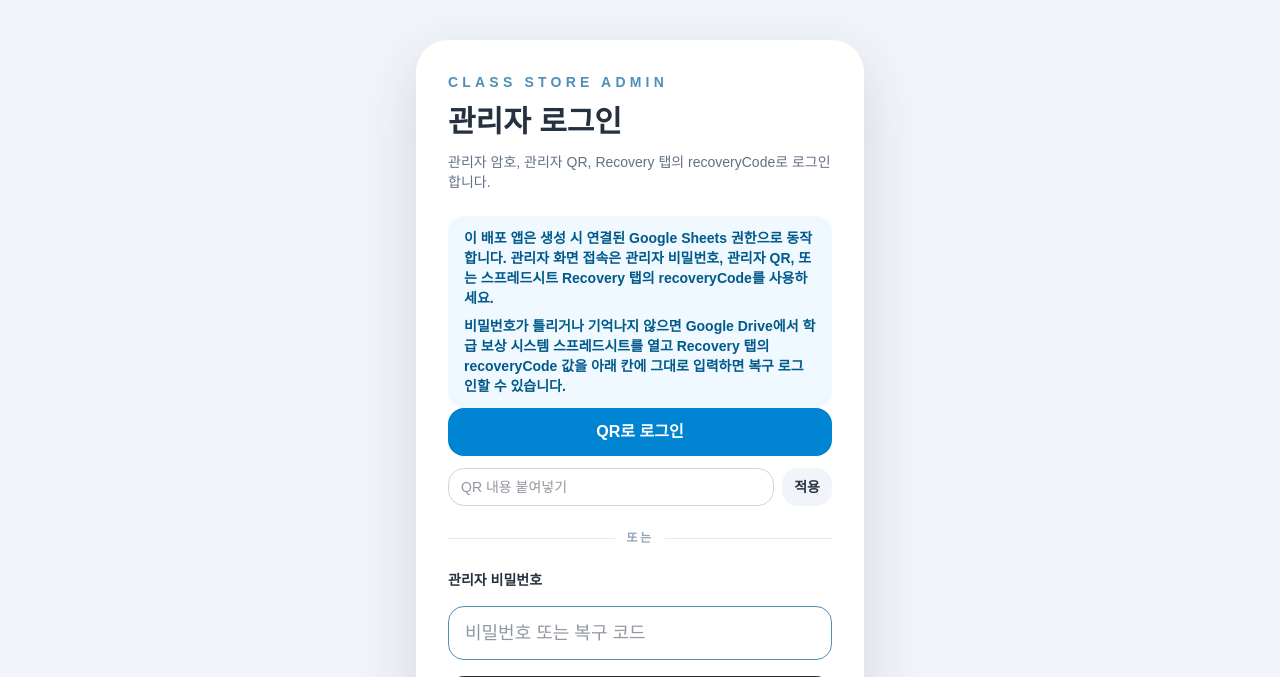
Scenario: AdminLoginPage › shows a loading dialog after applying a pasted admin QR login value
Type "class-store-admin:secret" into the field named "QR 로그인 값" at (611, 487), box [448, 468, 774, 506]
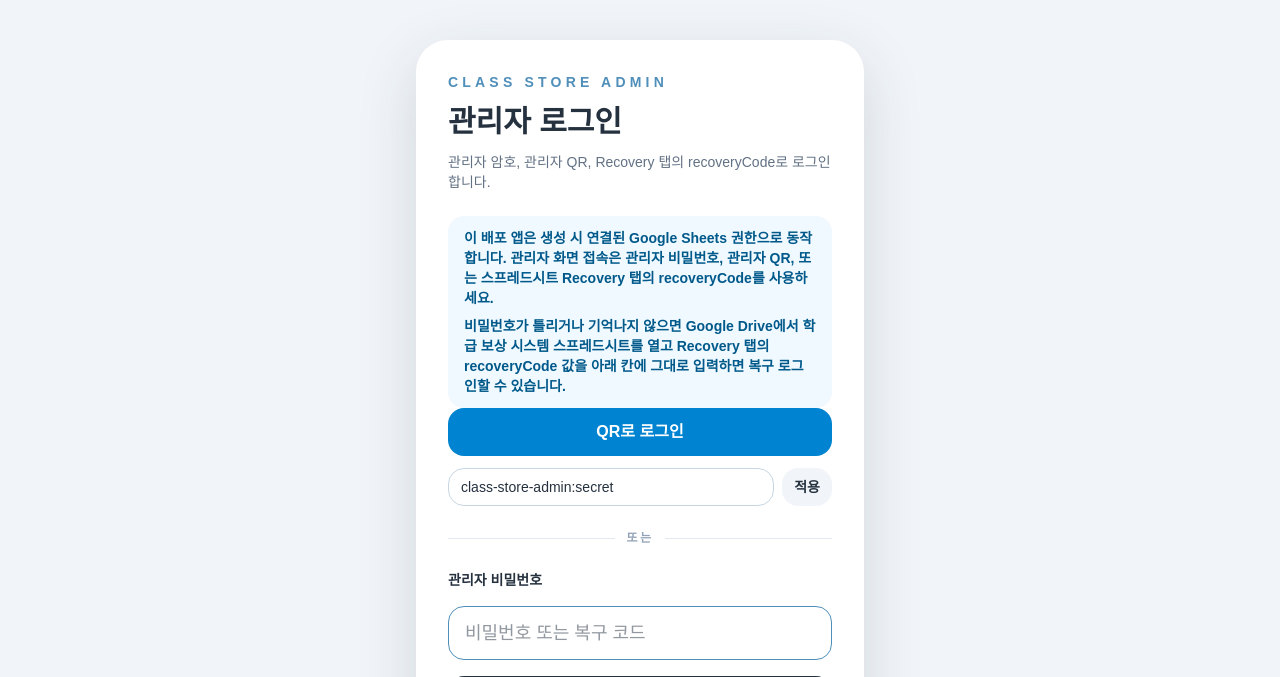
Click the button "적용" at (807, 487), box [782, 468, 832, 506]
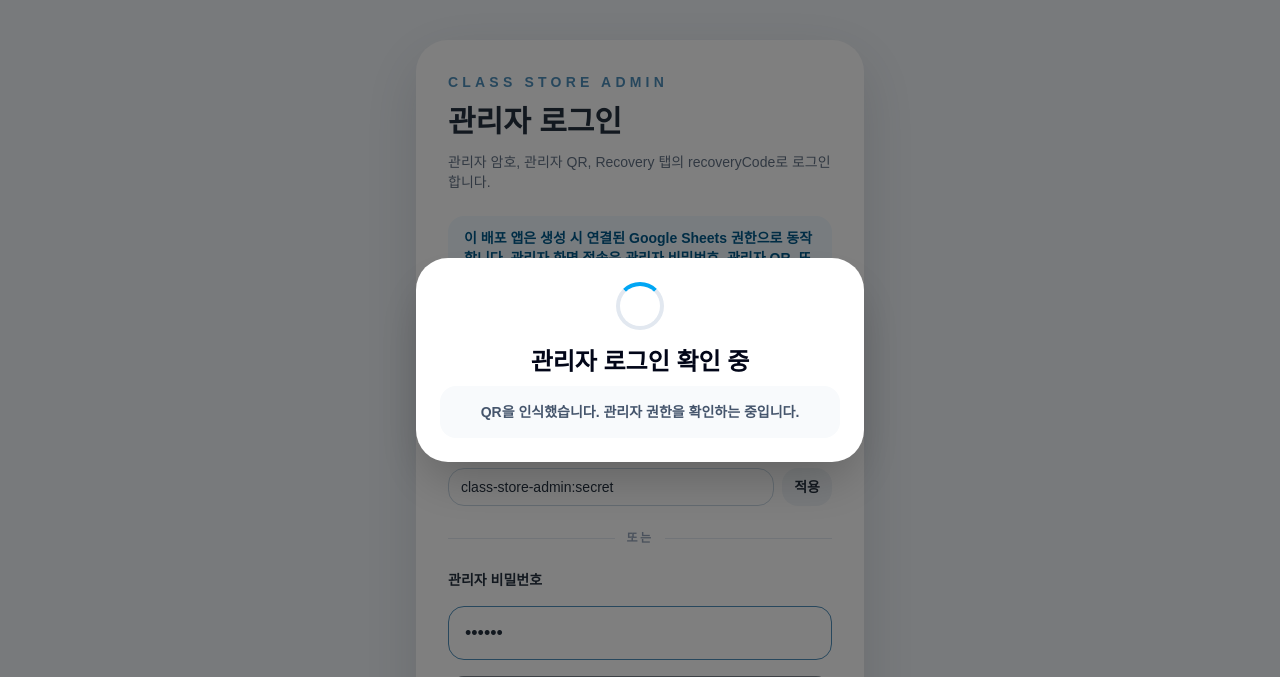
Result: the dialog "관리자 로그인 확인 중" is shown at [416, 258, 864, 462]
Result: the text "QR을 인식했습니다. 관리자 권한을 확인하는 중입니다." is shown at [440, 386, 840, 438]
